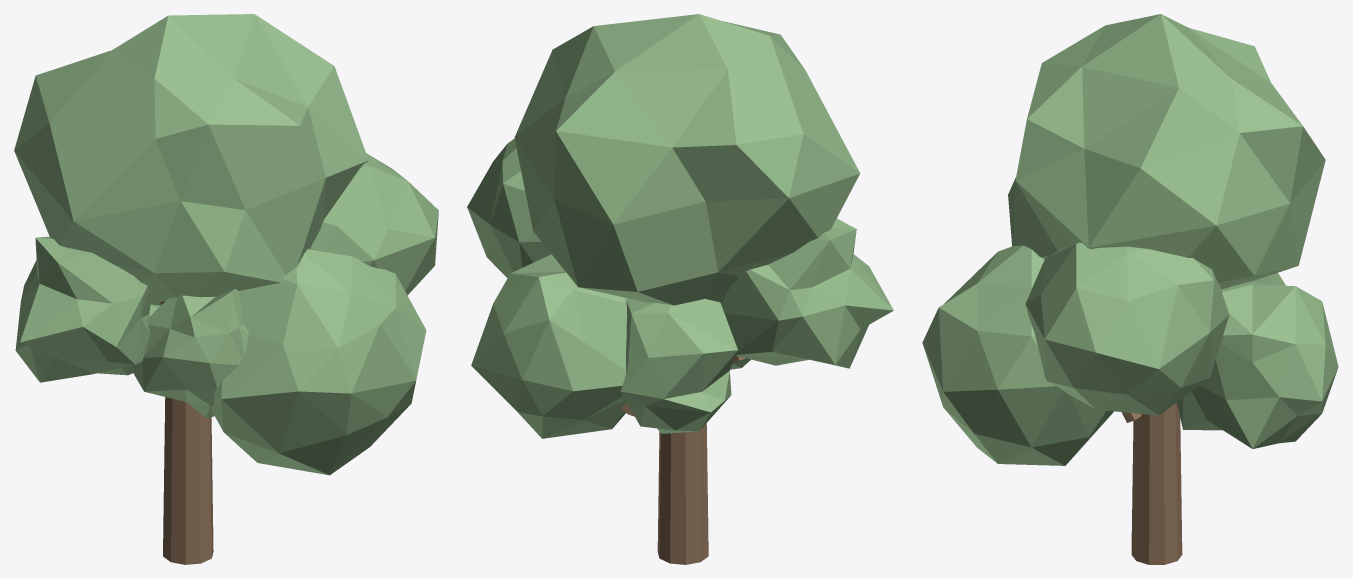
File: sculpted_tree_c.glb
3 views of the same model, side by side, from view 1: azimuth 30°, elevation 25°; view 2: azimuth 150°, elevation 25°; view 3: azimuth 270°, elevation 25° (orthographic). The views are drawn at different scales.
Visible parts, largest first — view 1: SculptedTree_13; view 2: SculptedTree_13; view 3: SculptedTree_13.
Boxes of the visible parts, x1,y1,x2,y2 form: SculptedTree_13: (14, 14, 438, 564); SculptedTree_13: (467, 14, 893, 564); SculptedTree_13: (922, 14, 1338, 564).
Size of the model in its own units: 2.92 by 3.69 by 2.62.
